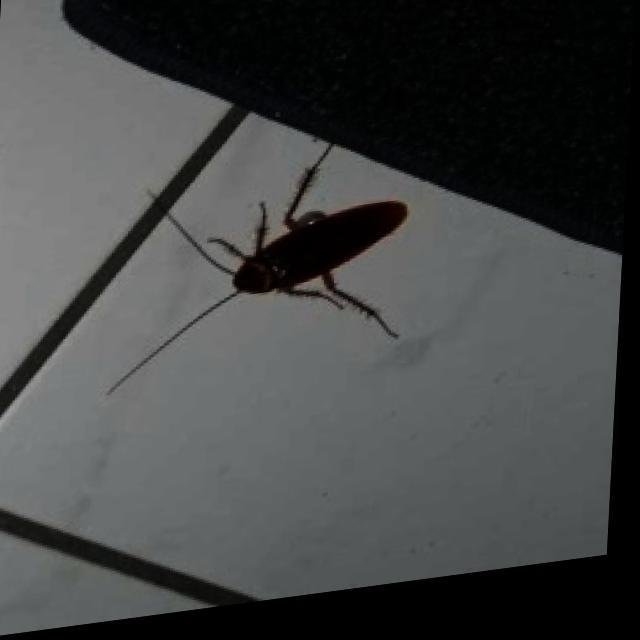cockroach: (102, 137, 413, 400)
